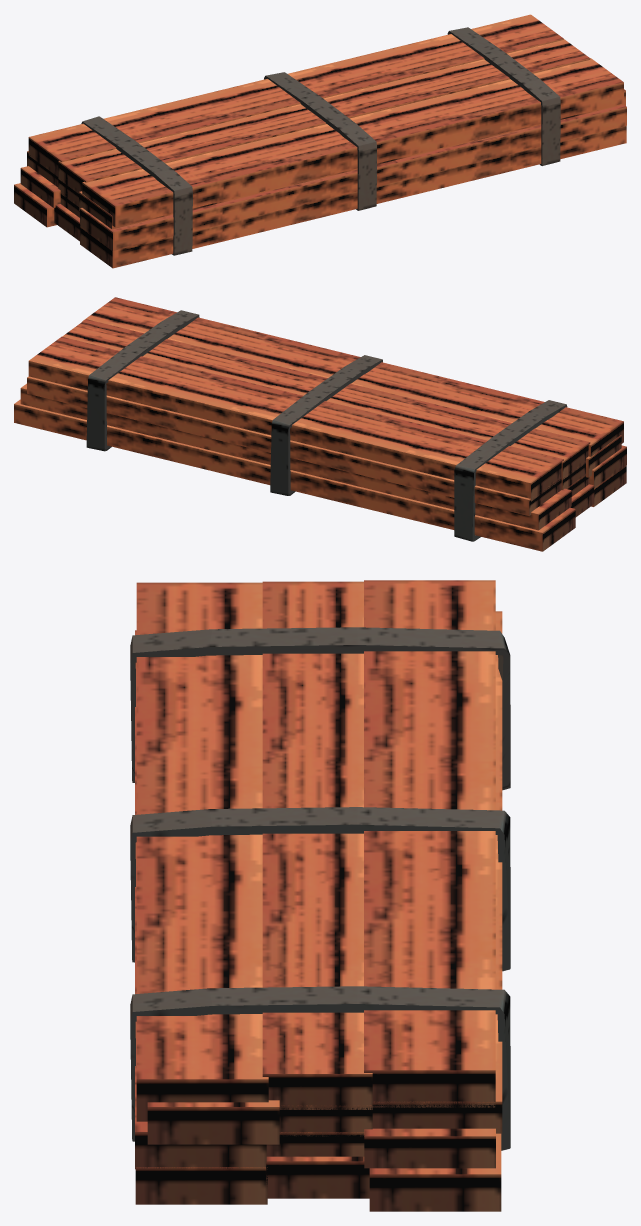
File: WoodBundle.fbx
3 renders of one model, top to bottom at view 1: azimuth 30°, elevation 25°; view 2: azimuth 150°, elevation 25°; view 3: azimuth 270°, elevation 25°, orthographic. The views are drawn at different scales.
Parts seen in each view (by area): view 1: WoodPile:WoodPile:polySurface13; view 2: WoodPile:WoodPile:polySurface13; view 3: WoodPile:WoodPile:polySurface13.
Boxes of the visible parts, box(x1,y1,x2,y2) form: WoodPile:WoodPile:polySurface13: box(14, 14, 626, 268); WoodPile:WoodPile:polySurface13: box(14, 297, 626, 551); WoodPile:WoodPile:polySurface13: box(130, 580, 510, 1211).
Bounding box in the file's own units: 141 × 19.16 × 43.79.
